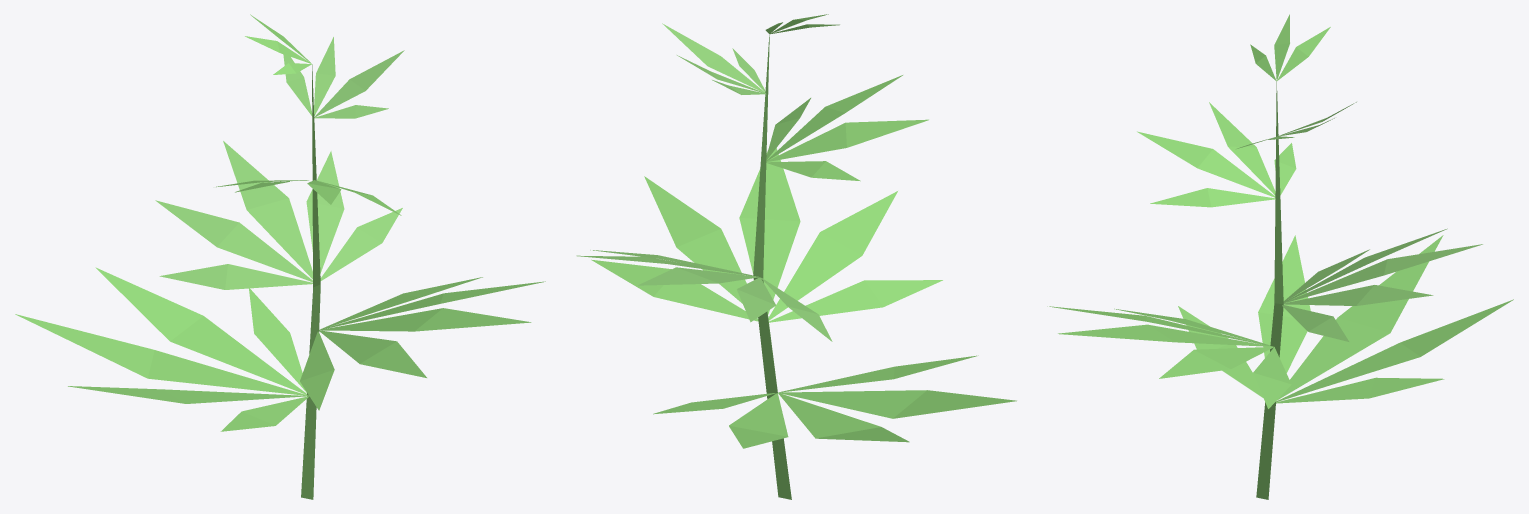
File: Plant_i_TwoS_04.fbx
3 views of the same model, side by side, from view 1: azimuth 30°, elevation 25°; view 2: azimuth 150°, elevation 25°; view 3: azimuth 270°, elevation 25° (orthographic). The views are drawn at different scales.
Visible parts, largest first — view 1: Plant_i_TwoS_04; view 2: Plant_i_TwoS_04; view 3: Plant_i_TwoS_04.
Boxes of the visible parts, x1,y1,x2,y2 form: Plant_i_TwoS_04: (15,14,545,499); Plant_i_TwoS_04: (576,14,1016,499); Plant_i_TwoS_04: (1047,14,1513,499).
Bounding box in the file's own units: 35.83 × 38.66 × 35.78.
